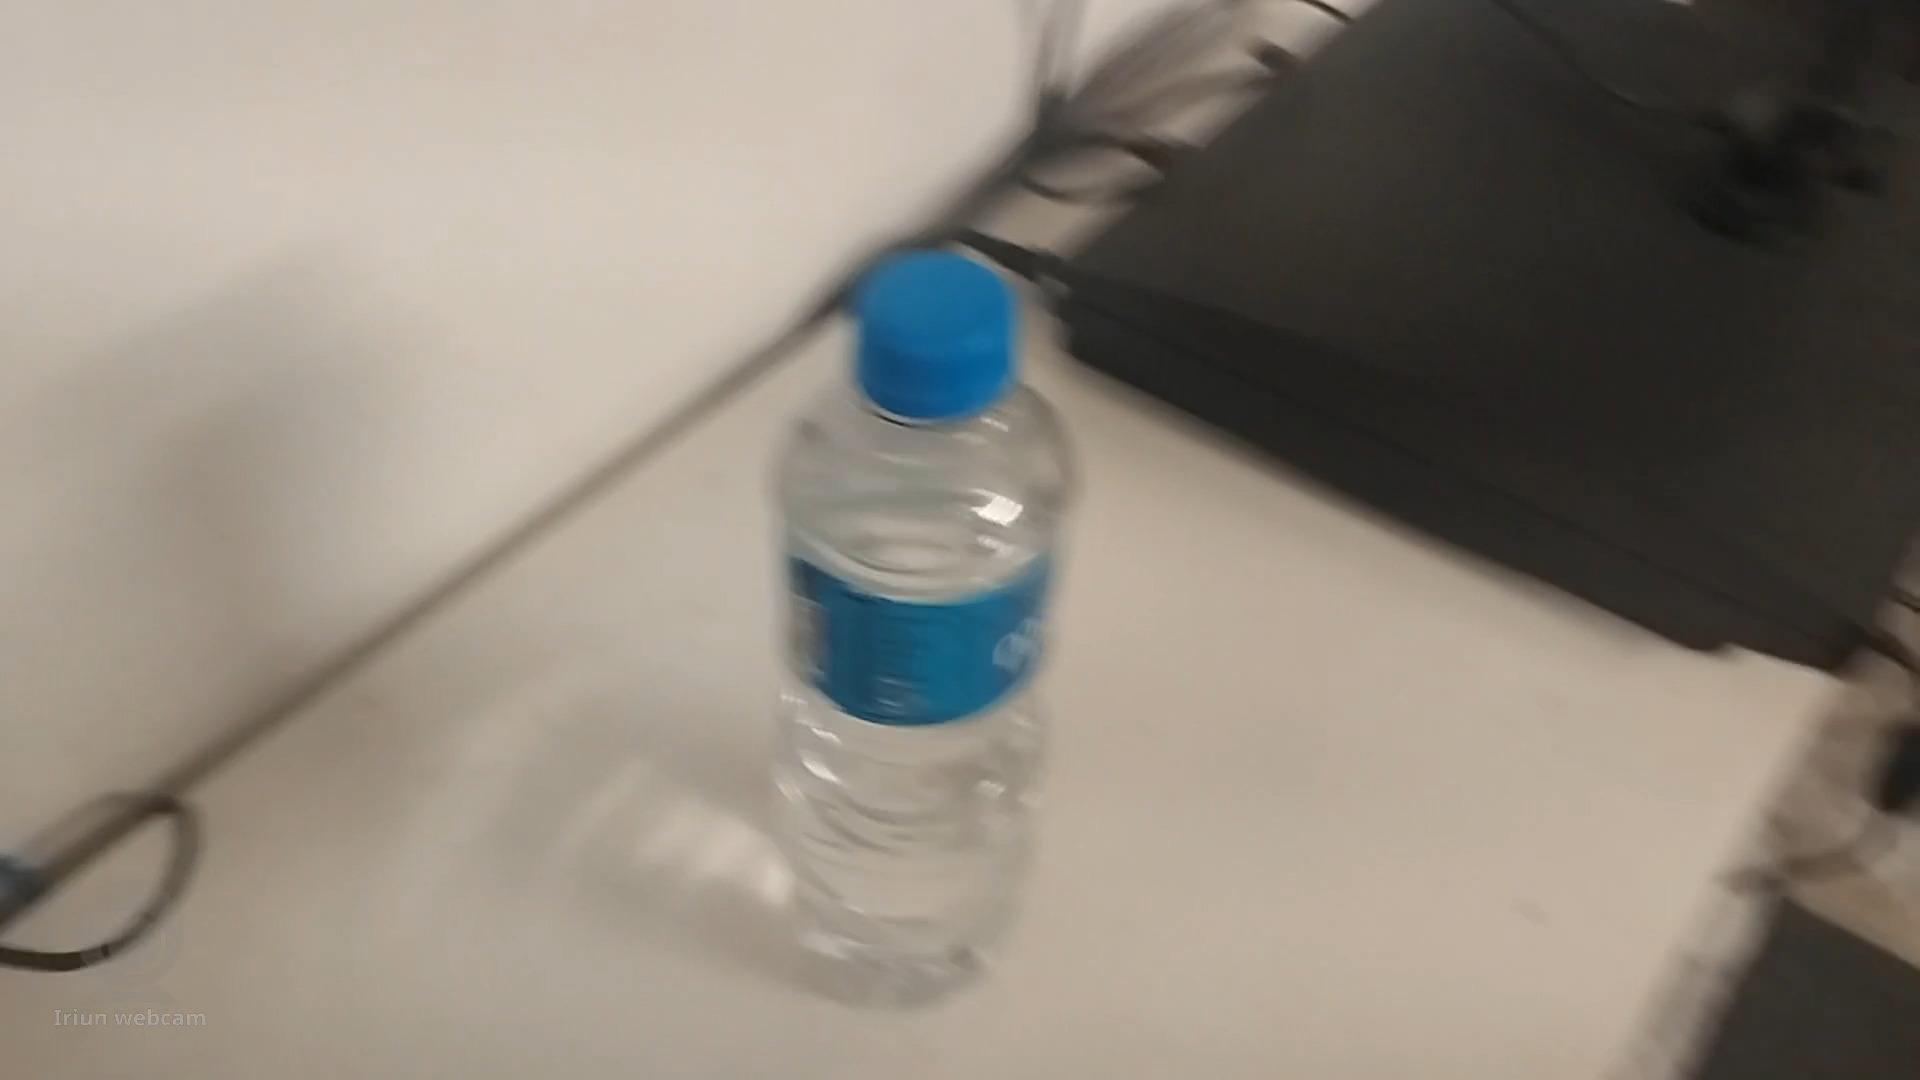agua: (765, 245, 1065, 1003)
